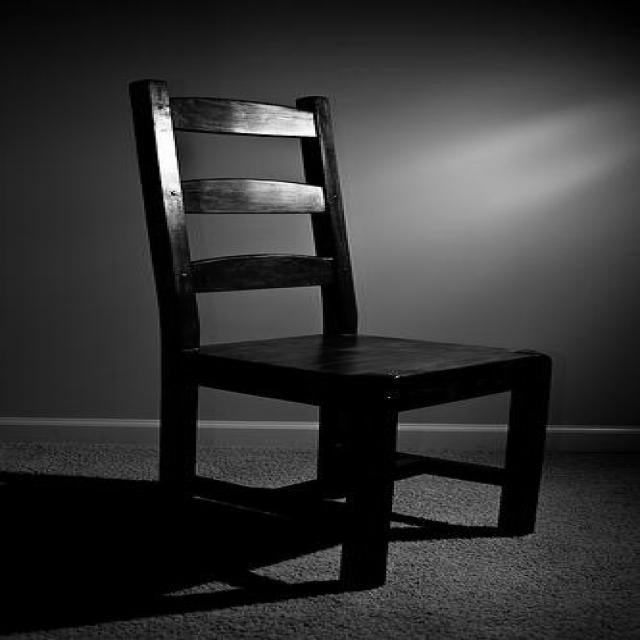chair: (135, 65, 552, 595)
